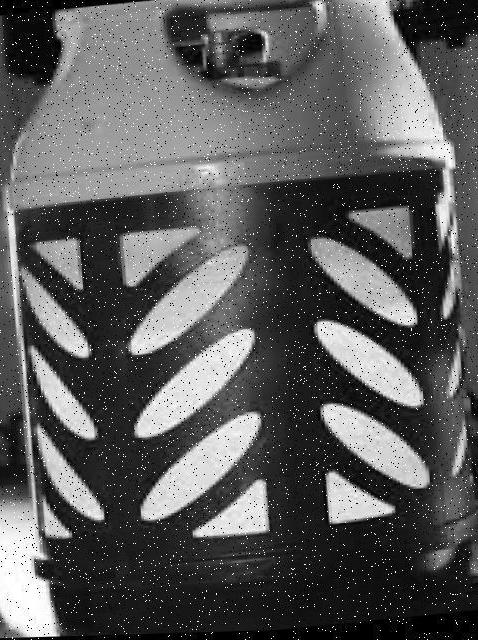cylinder: (1, 0, 478, 640)
